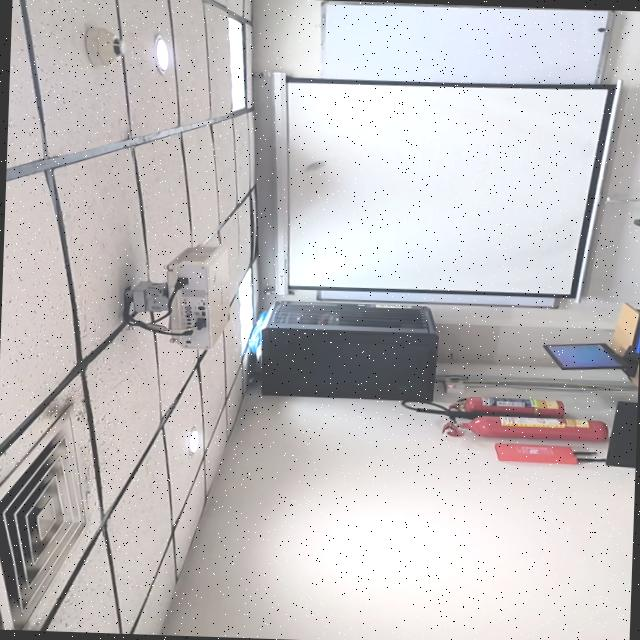Fire Extinguisher: (459, 415, 605, 441), (446, 396, 563, 417)
Light: (226, 17, 248, 110), (236, 268, 254, 354), (153, 34, 169, 73), (187, 429, 198, 453)
Monitor: (542, 343, 637, 377), (604, 401, 637, 467)
Projector: (124, 244, 232, 348)
